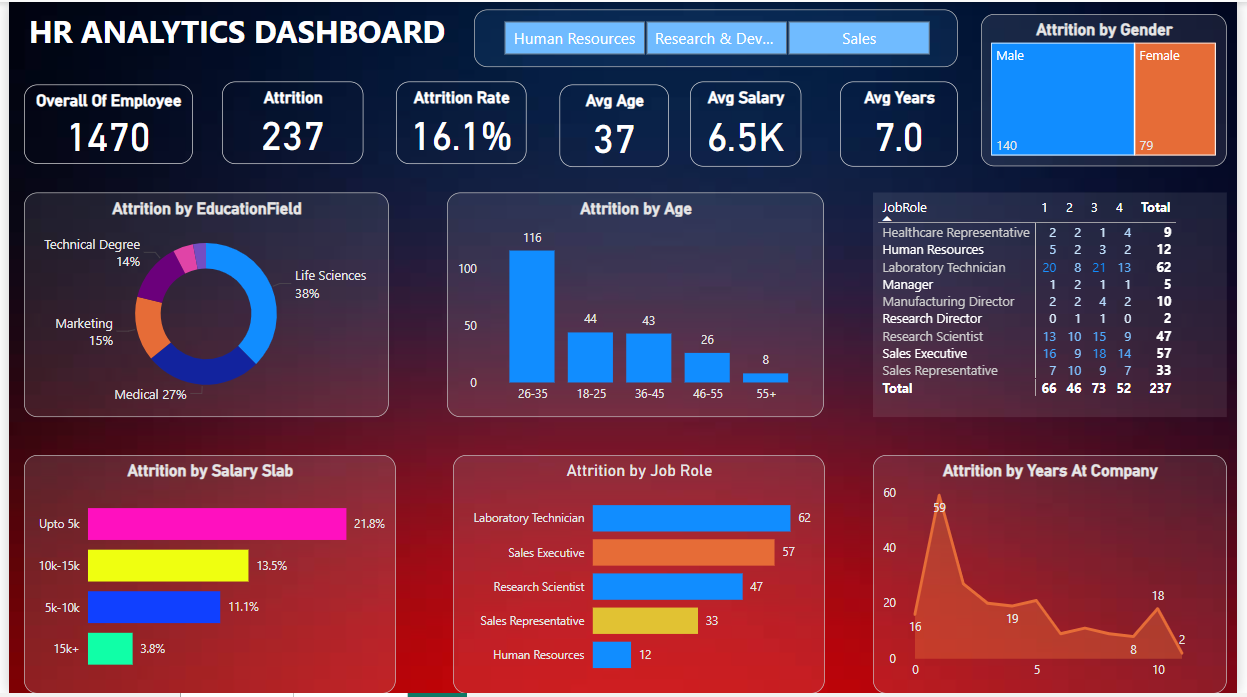

What the dashboard file says about the page in this screenshot:
{"tool":"powerbi","page":{"name":"Page 1","canvas":[1280,720],"ordinal":0},"visuals":[{"type":"card","title":"Overall Of Employee","fields":{"Values":["CountNonNull(HR_Analytics.EmpID)"]},"box":[15.7,85.7,175.7,82.9],"z":0},{"type":"card","title":" Attrition","fields":{"Values":["Sum(HR_Analytics.AttritionCount)"]},"box":[221.4,82.9,147.1,85.7],"z":1000},{"type":"card","title":"Attrition Rate","fields":{"Values":["HR_Analytics.AttritionRate"]},"box":[402.9,82.9,135.7,85.7],"z":2000},{"type":"card","title":"Avg Salary","fields":{"Values":["Avg(HR_Analytics.MonthlyIncome)"]},"box":[710,82.9,115.7,88.6],"z":3000},{"type":"card","title":"Avg Years","fields":{"Values":["Avg(HR_Analytics.YearsAtCompany)"]},"box":[865.7,82.9,122.9,88.6],"z":4000},{"type":"card","title":"Avg  Age","fields":{"Values":["Avg(HR_Analytics.Age)"]},"box":[572.9,85.7,114.3,85.7],"z":5000},{"type":"donutChart","title":" Attrition by EducationField","fields":{"Category":["HR_Analytics.EducationField"],"Y":["Sum(HR_Analytics.AttritionCount)"]},"box":[15.7,198.6,380,234.3],"z":6000},{"type":"columnChart","title":" Attrition by Age ","fields":{"Category":["HR_Analytics.AgeGroup"],"Y":["Sum(HR_Analytics.AttritionCount)"]},"box":[457.1,198.6,392.9,234.3],"z":7000},{"type":"clusteredBarChart","title":"Attrition by Salary Slab","fields":{"Y":["HR_Analytics.AttritionRate"],"Category":["HR_Analytics.SalarySlab"]},"box":[15.7,471.4,387.1,248.6],"z":8000},{"type":"clusteredBarChart","title":" Attrition by Job Role","fields":{"Y":["Sum(HR_Analytics.AttritionCount)"],"Category":["HR_Analytics.JobRole"]},"box":[462.9,471.4,387.1,248.6],"z":9000},{"type":"pivotTable","fields":{"Rows":["HR_Analytics.JobRole"],"Columns":["HR_Analytics.JobSatisfaction"],"Values":["Sum(HR_Analytics.AttritionCount)"]},"box":[900,198.6,368.6,234.3],"z":10000},{"type":"areaChart","title":" Attrition by Years At Company","fields":{"Category":["HR_Analytics.YearsAtCompany"],"Y":["Sum(HR_Analytics.AttritionCount)"]},"box":[900,471.4,368.6,248.6],"z":11000},{"type":"treemap","title":" Attrition by Gender","fields":{"Group":["HR_Analytics.Gender"],"Values":["Sum(HR_Analytics.AttritionCount)"]},"box":[1012.9,12.9,255.7,158.6],"z":13000},{"type":"slicer","fields":{"Values":["HR_Analytics.Department"]},"box":[484.3,7.1,504.3,60],"z":13001},{"type":"textbox","box":[15.7,2.9,454.3,55.7],"z":13002}]}

Visuals, with their boxes in screenshot pixels (x1, y1, x2, y2), scaled from the page's 1280x720 canvas onto the 1247x697 screenshot:
"Overall Of Employee" card: 15, 83, 186, 163
" Attrition" card: 216, 80, 359, 163
"Attrition Rate" card: 393, 80, 525, 163
"Avg Salary" card: 692, 80, 804, 166
"Avg Years" card: 843, 80, 963, 166
"Avg  Age" card: 558, 83, 669, 166
" Attrition by EducationField" donutChart: 15, 192, 385, 419
" Attrition by Age " columnChart: 445, 192, 828, 419
"Attrition by Salary Slab" clusteredBarChart: 15, 456, 392, 696
" Attrition by Job Role" clusteredBarChart: 451, 456, 828, 696
pivotTable - HR_Analytics.JobRole x HR_Analytics.JobSatisfaction: 877, 192, 1236, 419
" Attrition by Years At Company" areaChart: 877, 456, 1236, 696
" Attrition by Gender" treemap: 987, 12, 1236, 166
slicer - HR_Analytics.Department: 472, 7, 963, 65
textbox: 15, 3, 458, 57
